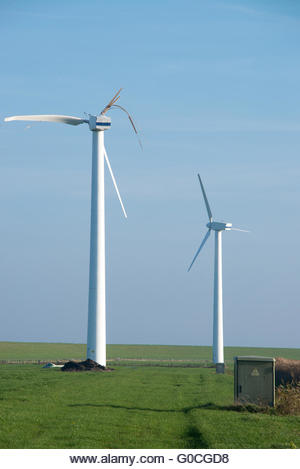faulty: (6, 82, 158, 220)
working: (185, 170, 244, 290)
